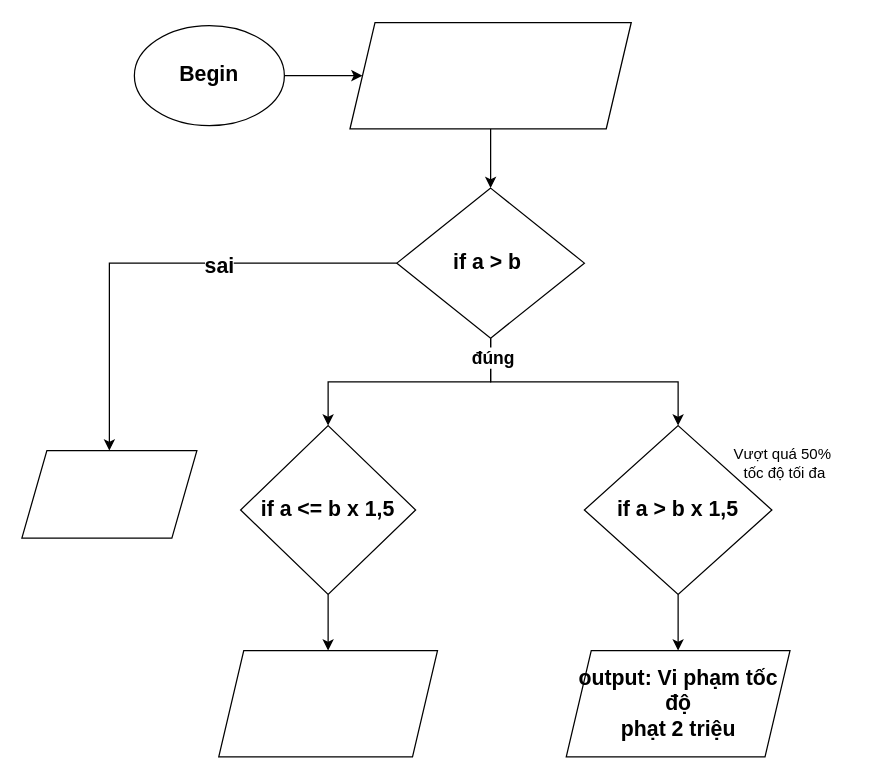
This 869x779 diagram has some shape labels left out. The shapes that lost their labels are listed below. From the top down, each one's box as (x1, y1, x2, y2) in pixels, then its label:
(349, 21, 631, 129): Input: tốc độ thực tế a Input: tốc độ tối đa b
(21, 449, 197, 538): output : Không có vi pham
(218, 649, 438, 757): output: Vi phạm tốc độ phạt 1 triệu
